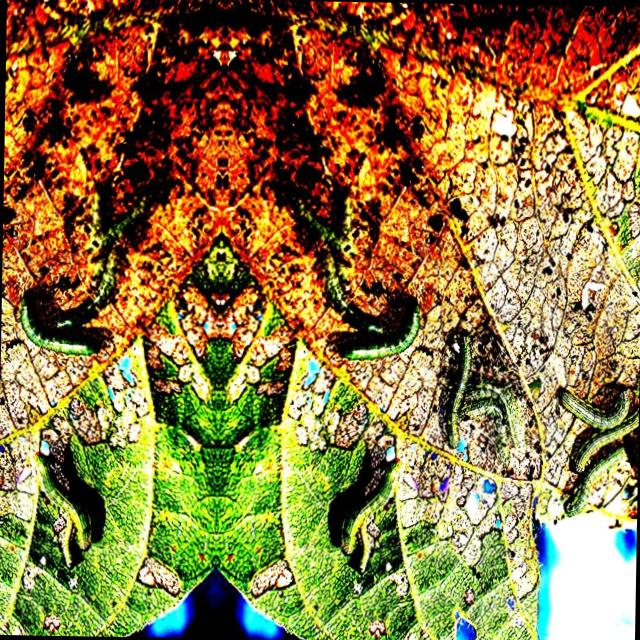Armyworm: (317, 459, 422, 560), (7, 283, 114, 382), (336, 304, 423, 384), (426, 323, 476, 456), (558, 450, 631, 530), (561, 417, 640, 476), (561, 387, 636, 432)
